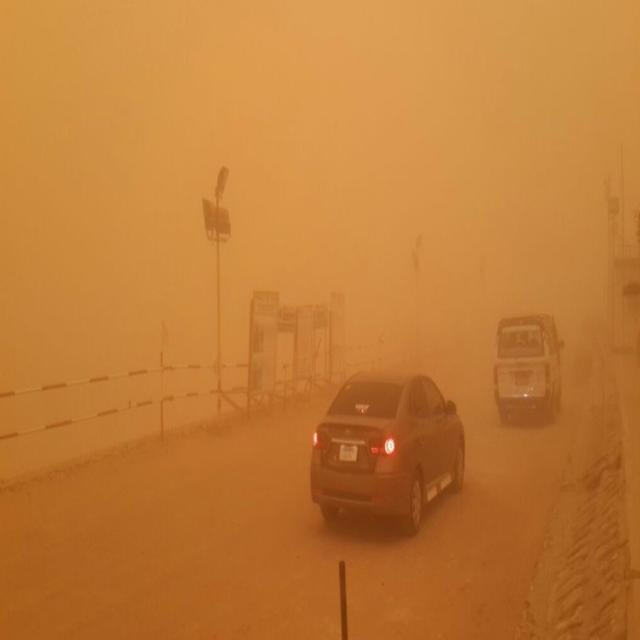car: (308, 371, 464, 534)
